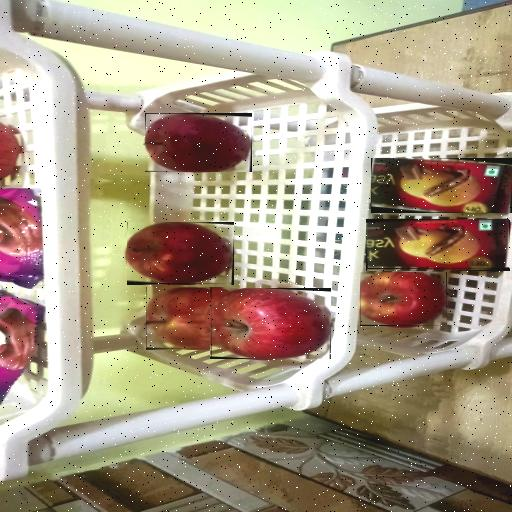Apple: (211, 288, 331, 359), (127, 222, 233, 284), (145, 113, 251, 172), (146, 287, 227, 349), (360, 272, 447, 326)
Choco Fills: (371, 158, 512, 213), (366, 219, 508, 269)
